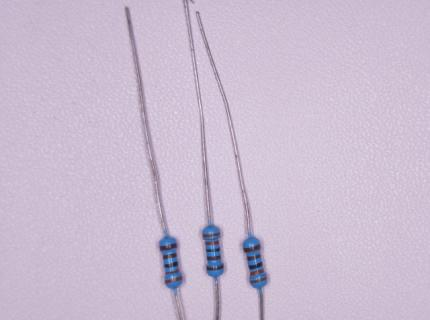Black band: (249, 262, 263, 270), (164, 262, 178, 268), (206, 248, 220, 252)
Brown band: (243, 244, 261, 253), (159, 243, 178, 251), (247, 253, 261, 261), (206, 265, 224, 271), (163, 253, 177, 260), (207, 256, 221, 261)
Orange band: (165, 276, 184, 285), (250, 277, 267, 284), (250, 269, 265, 276), (202, 233, 221, 238), (165, 269, 180, 275), (205, 240, 220, 246)
